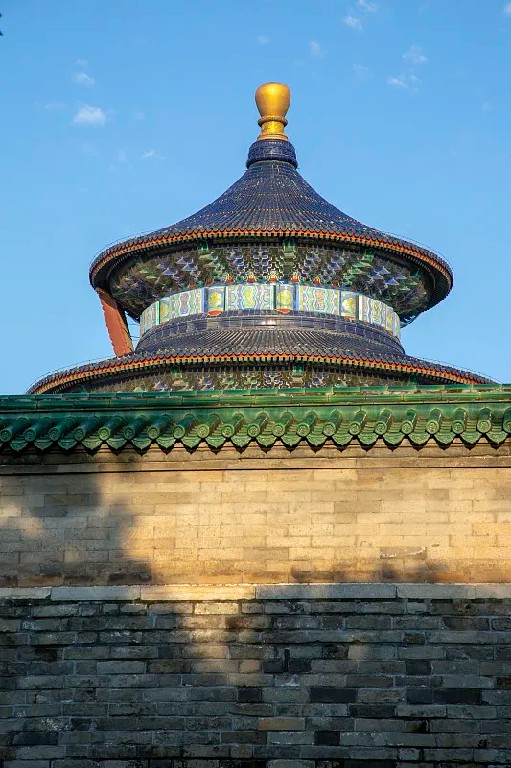Heaven: (21, 82, 502, 395)
